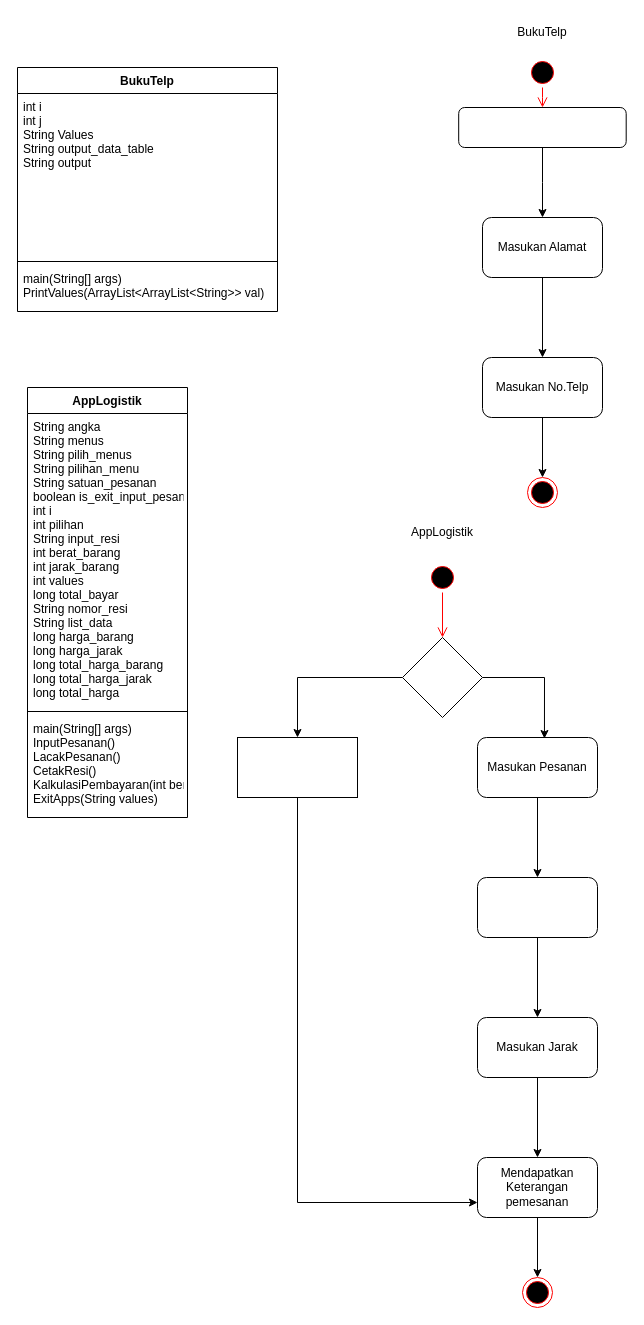
The diagram is 644 pixels wide and 1325 high, and some of its shapes have lost their labels. Here are the shapes that lost their labels. From the top down, the centre of each, then its label:
point (542, 127): Masukan Nama lengkap
point (297, 767): Melacak Pesanan
point (537, 907): Masukan Berat
